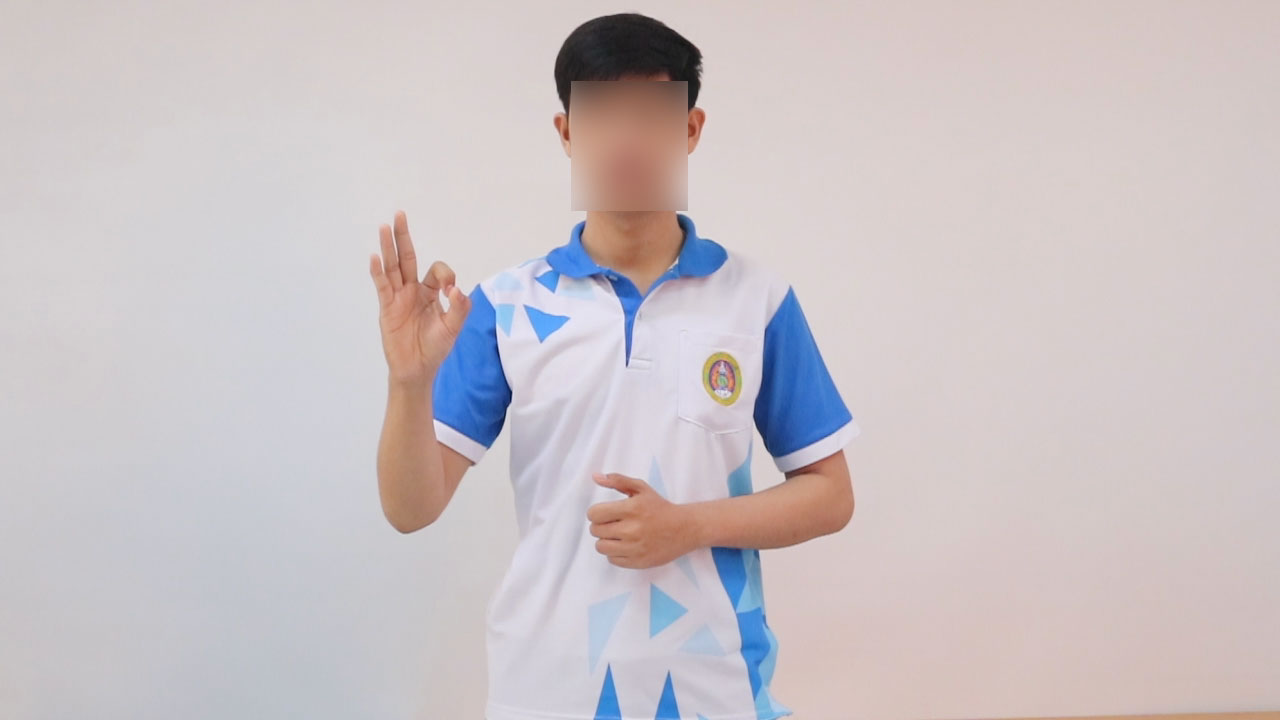for: (360, 201, 477, 391)
